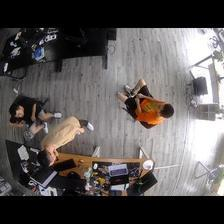normal: (117, 77, 176, 129), (8, 96, 54, 135)
